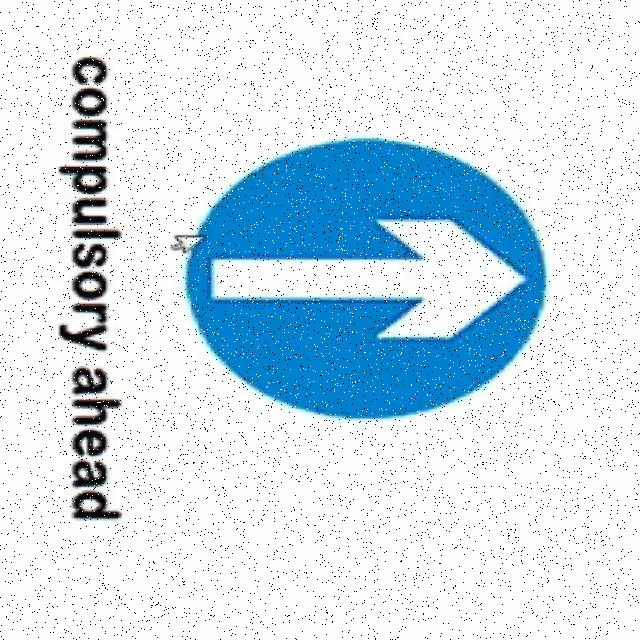compulsory turn right: (187, 143, 555, 421)
